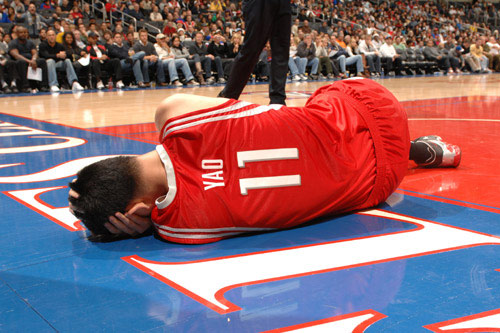10+: (2, 1, 498, 85)
down: (59, 75, 466, 244)
